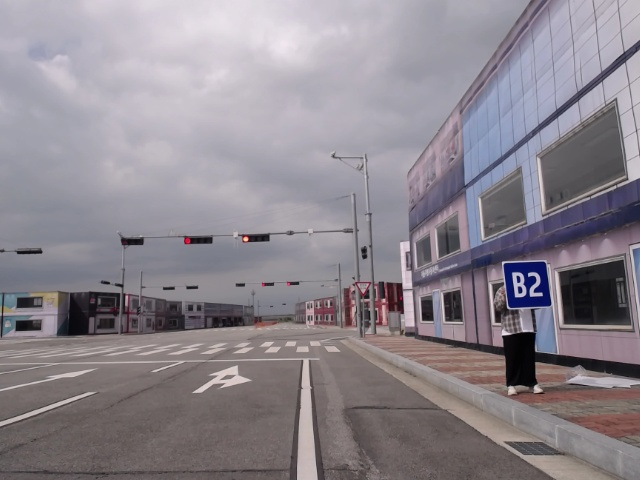delivery_b2: (500, 259, 552, 310)
red_4: (240, 233, 271, 244), (183, 236, 213, 246), (260, 281, 276, 288), (286, 280, 301, 286)
